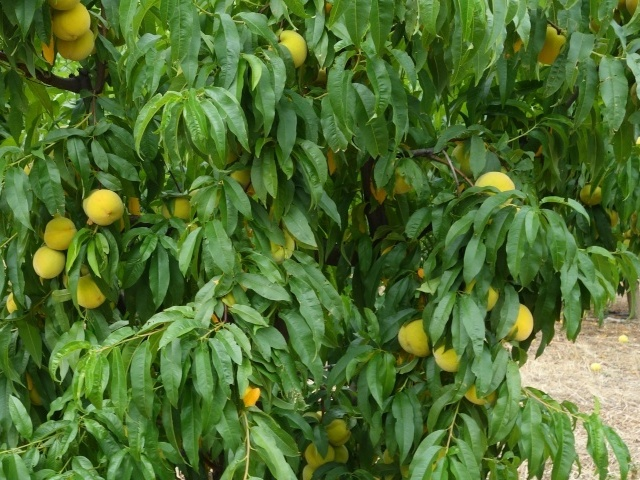peach: (45, 4, 96, 46), (82, 185, 128, 230), (472, 165, 521, 207), (57, 23, 102, 67), (266, 25, 310, 70), (392, 314, 436, 359), (71, 266, 114, 312), (425, 330, 467, 376), (503, 298, 541, 346), (41, 209, 82, 253), (536, 20, 572, 66), (30, 241, 70, 281), (265, 223, 299, 270), (443, 134, 477, 178), (301, 433, 339, 472), (159, 189, 196, 227), (457, 375, 496, 409), (319, 412, 353, 446), (577, 180, 608, 212), (39, 1, 86, 16), (328, 440, 352, 467)
